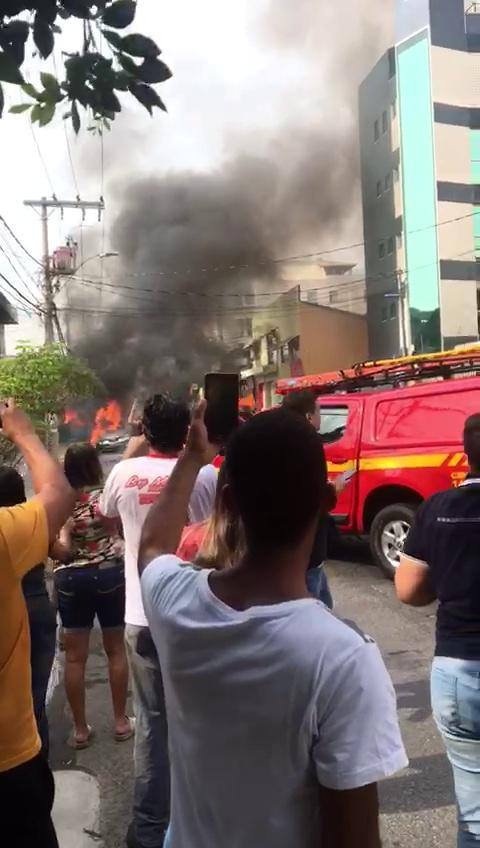smoke: (116, 180, 236, 346)
